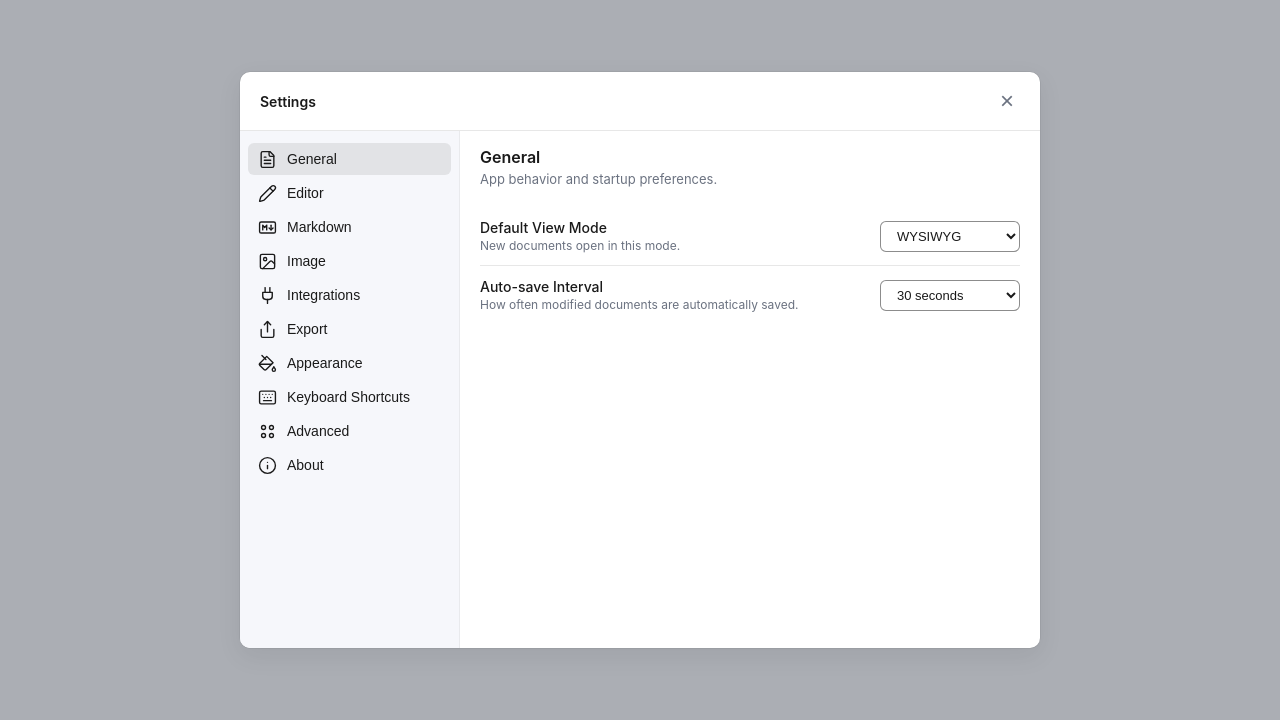
Test: WI-6 McpServerStatus › UI-02 disabled + configured disabled shows Off and no note
Click the button "Integrations": point(350, 295) [248,279,451,311]
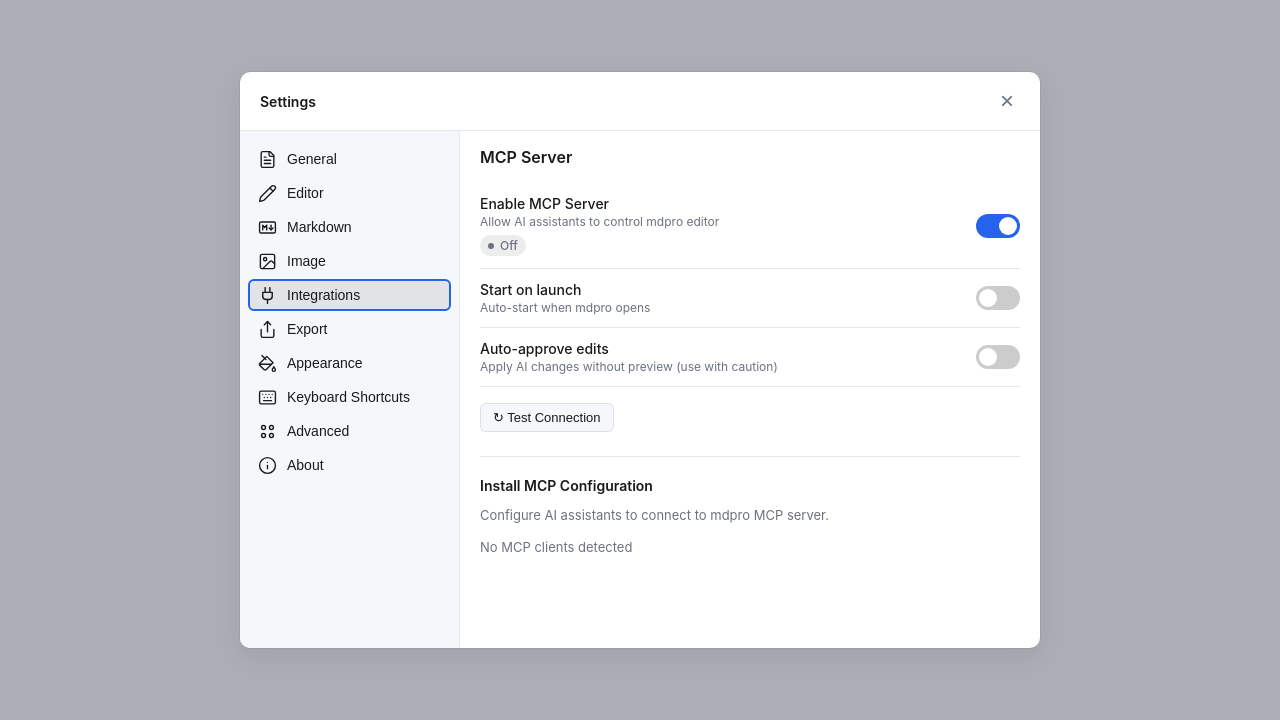
Result: the switch labelled "Enable MCP Server" is shown at [976,214,1020,238]
Result: the message reads "Off" at [500,238,518,253]
